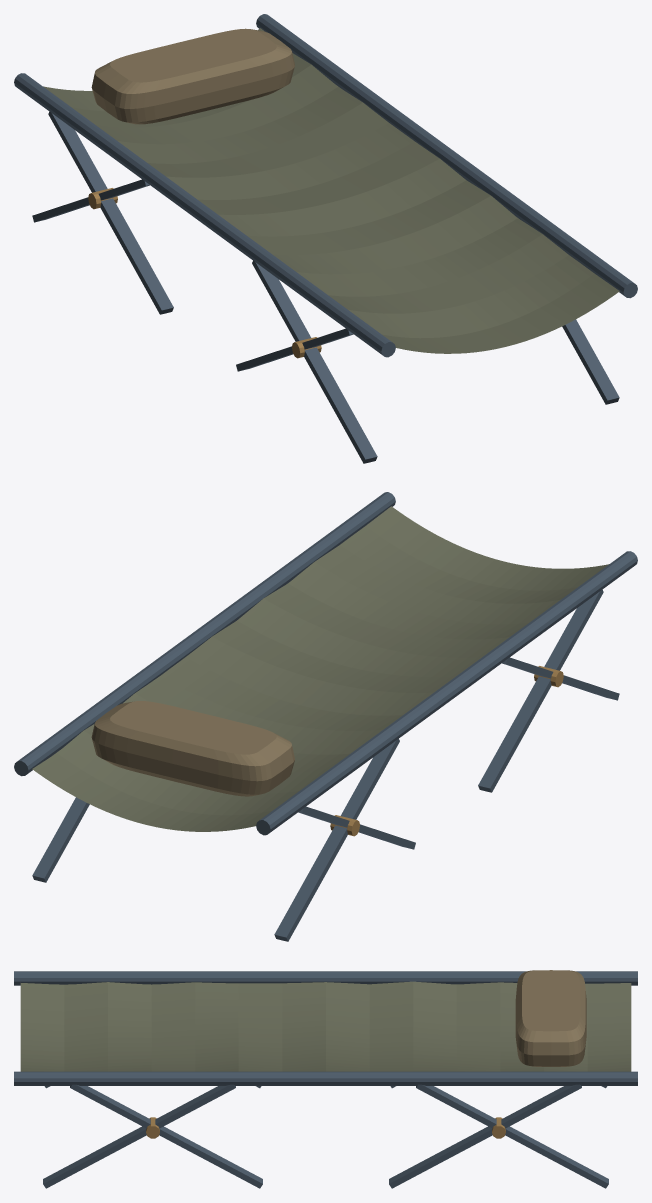
The model's file is B-06a_folding_cot.glb.
3 views of the same model, one above another, from view 1: azimuth 30°, elevation 25°; view 2: azimuth 150°, elevation 25°; view 3: azimuth 270°, elevation 25° (orthographic). The views are drawn at different scales.
Visible parts, largest first — view 1: B-06a_folding_cot; view 2: B-06a_folding_cot; view 3: B-06a_folding_cot.
Boxes of the visible parts, <box> form: B-06a_folding_cot: <box>14,14,637,463</box>; B-06a_folding_cot: <box>14,492,637,941</box>; B-06a_folding_cot: <box>14,970,637,1188</box>.
Size of the model in its own units: 0.762 by 0.4408 by 1.84.
